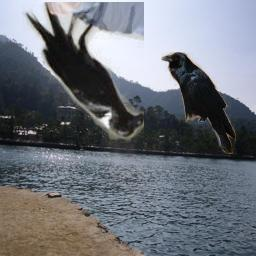Crow: (20, 2, 144, 143), (161, 52, 236, 154)
